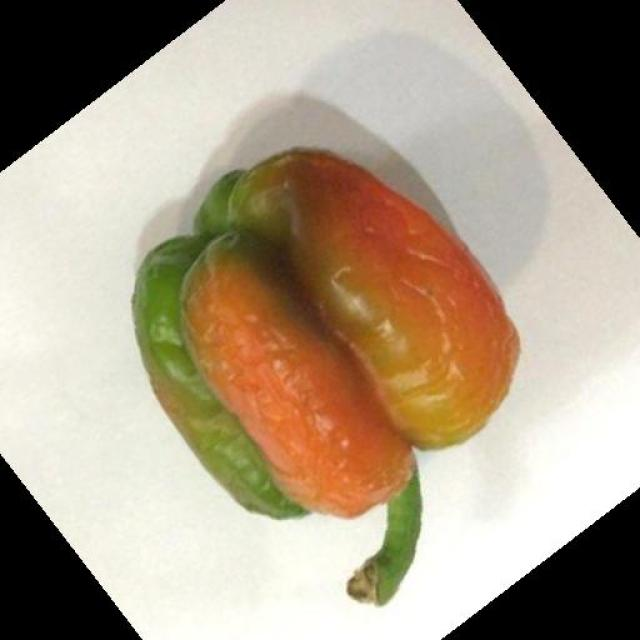Stale_Capsicum: (97, 137, 508, 640)
